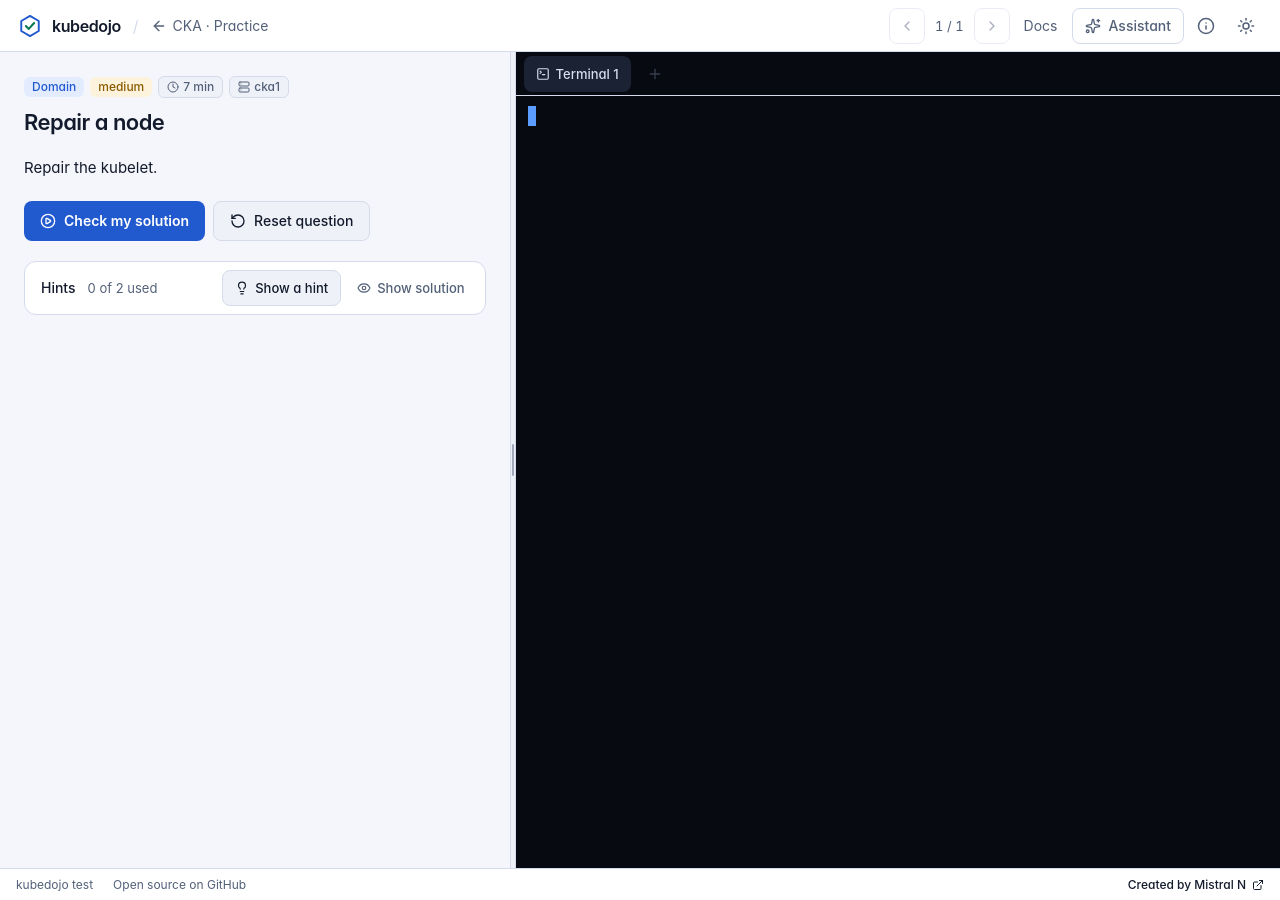
Test: the assistant on a task › suggests what fits the state of the task
Expected: the button "Check my solution" is shown, [24, 201, 205, 241]
Click the button "Assistant" at (1128, 26), box [1072, 8, 1184, 44]
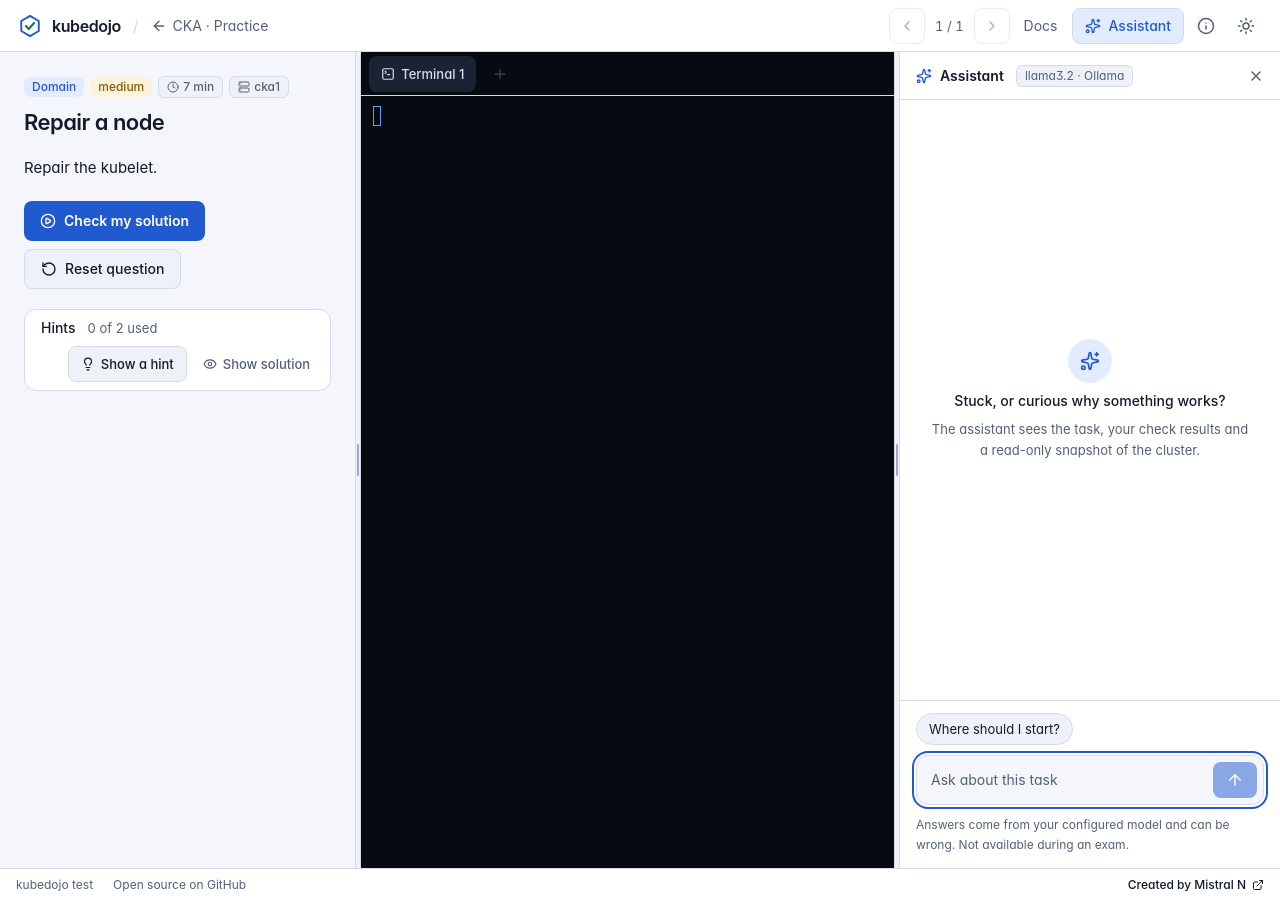
Expected: the button "Where should I start?" is shown, [916, 713, 1073, 745]
Click the button "Check my solution" at (115, 221), box [24, 201, 205, 241]
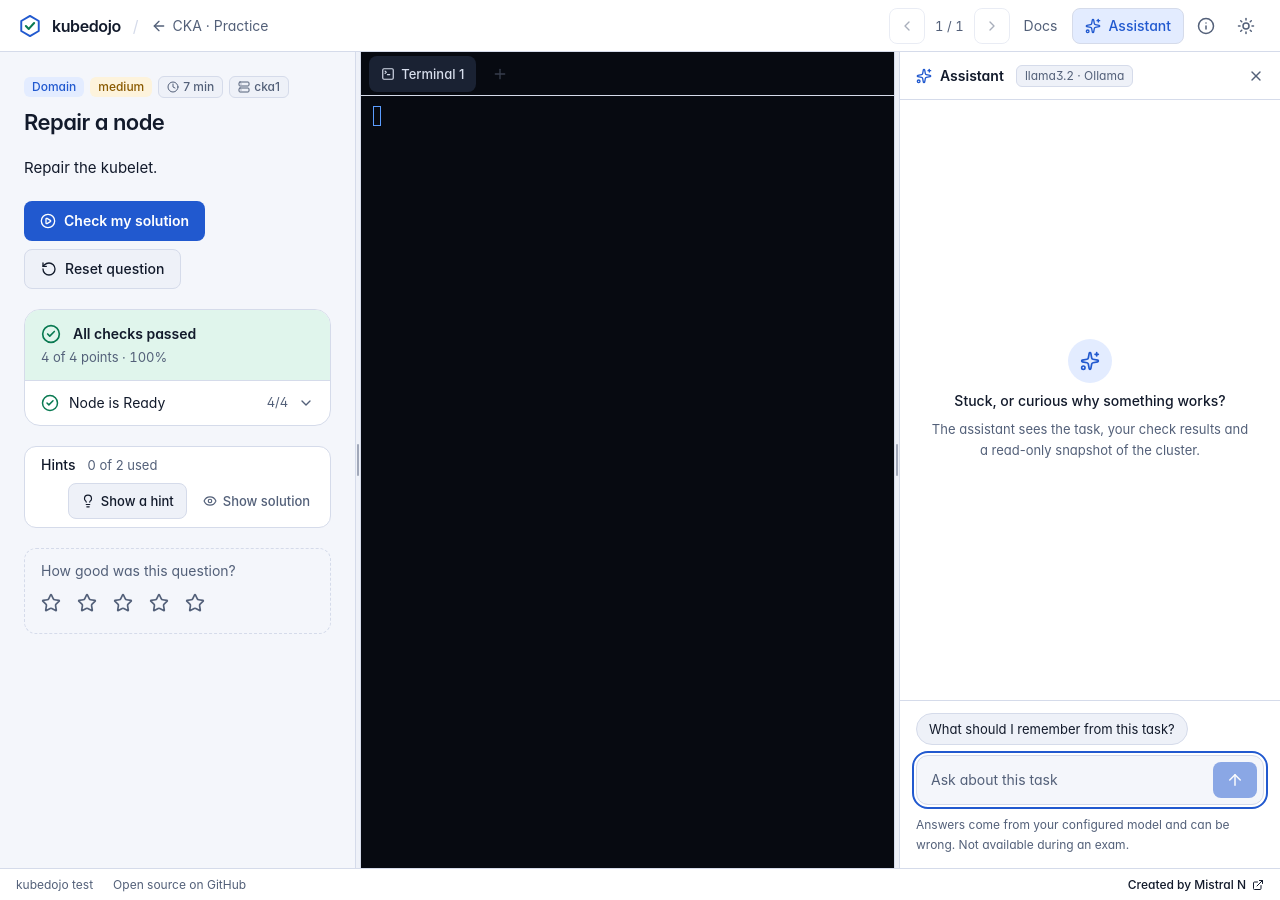
Expected: the button "What should I remember from this task?" is shown, [916, 713, 1188, 745]
Expected: the button "Where should I start?" is gone
